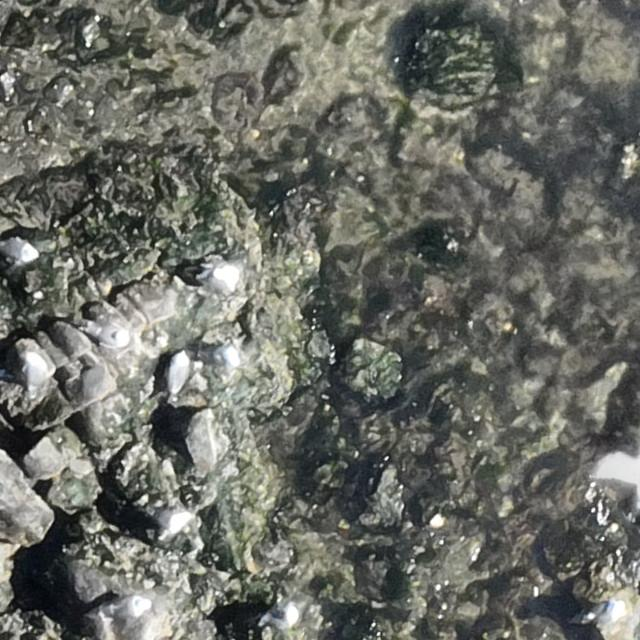umineko: (105, 594, 152, 623), (22, 349, 47, 402), (164, 348, 189, 399), (149, 508, 192, 532), (206, 264, 239, 294), (5, 238, 40, 264), (89, 323, 129, 344), (265, 605, 300, 629), (598, 600, 626, 630), (218, 344, 242, 378)
